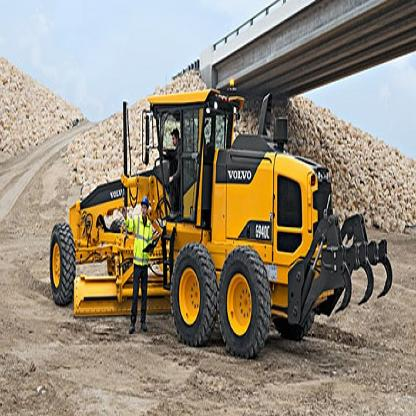bull_dozer/loader/grader: (42, 80, 401, 359)
person: (115, 190, 158, 332)
